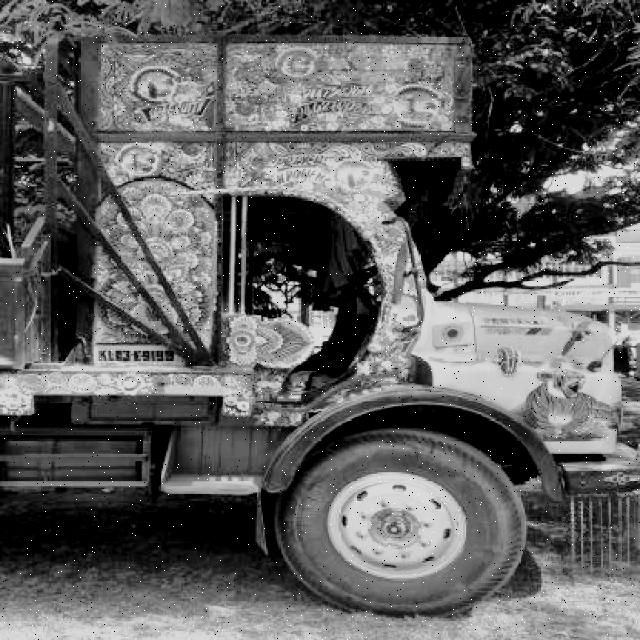HCV: (26, 58, 625, 617)
